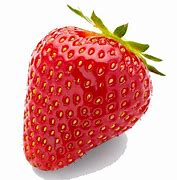Fresa: (23, 22, 155, 171)
